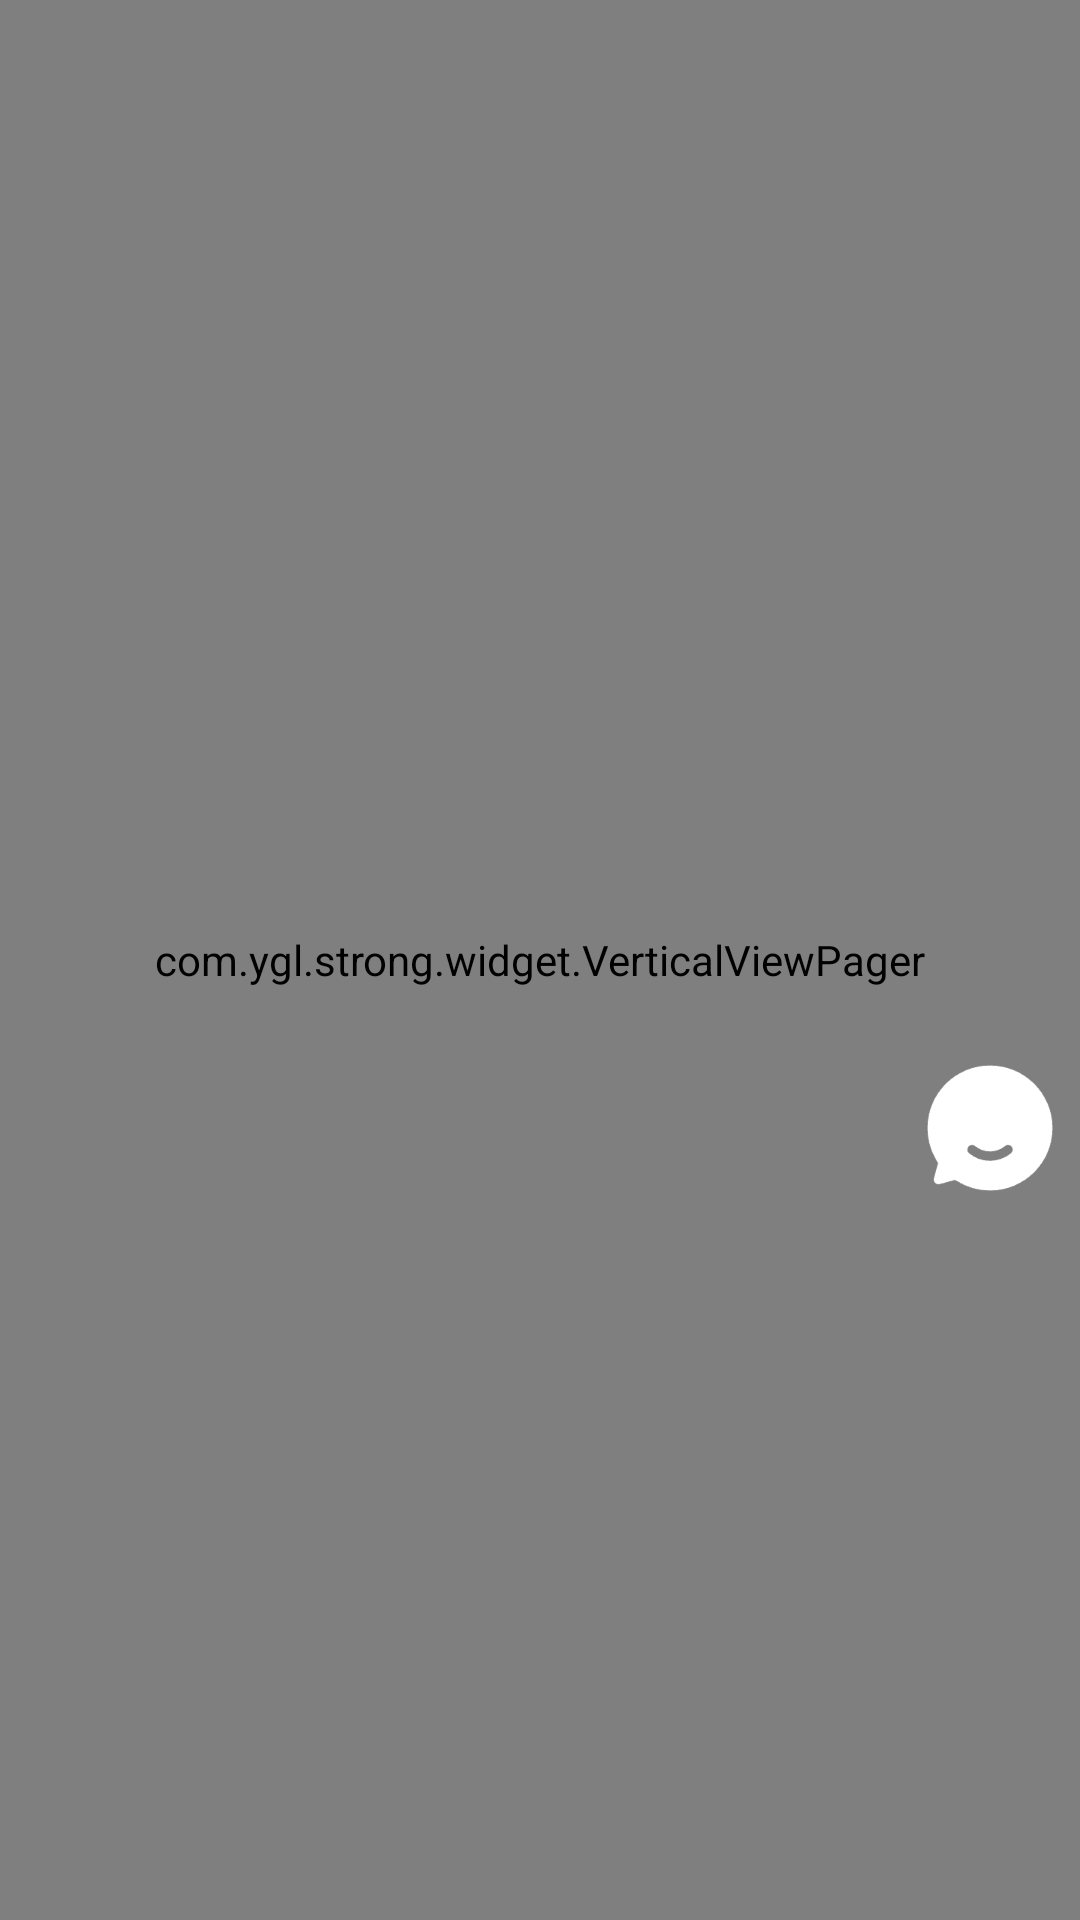

Icons on this 1080w x 1920h Android screen, each with the point to tap as point (x, y):
comment: point (990, 1128)
